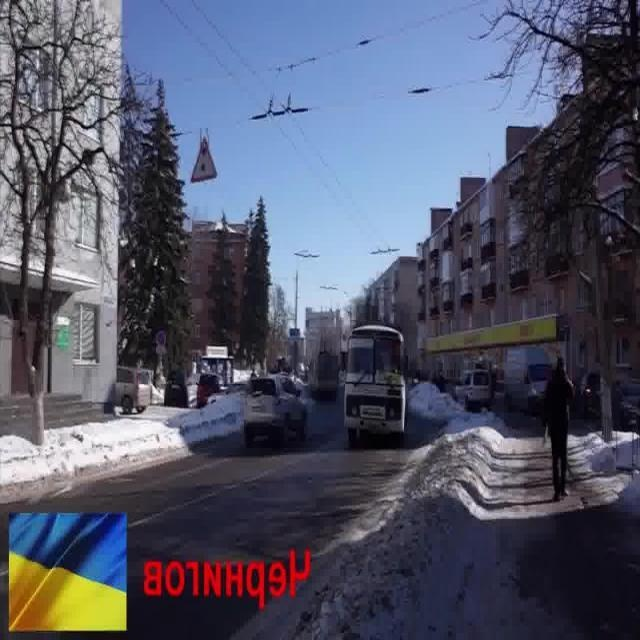bus: (328, 308, 436, 461)
car: (233, 362, 313, 458)
